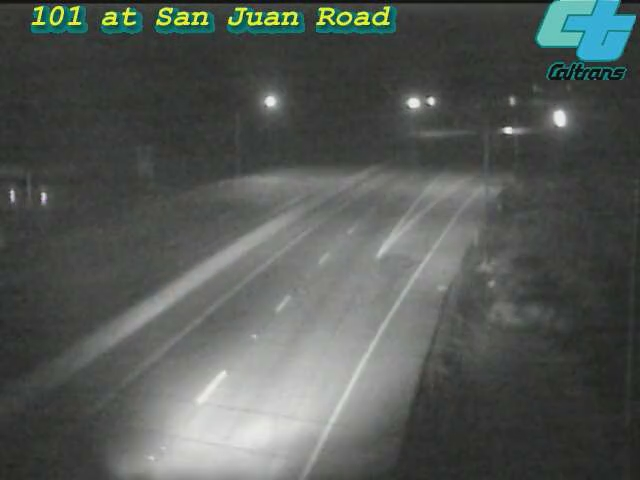vehicle: (484, 104, 534, 154), (534, 93, 584, 143)
